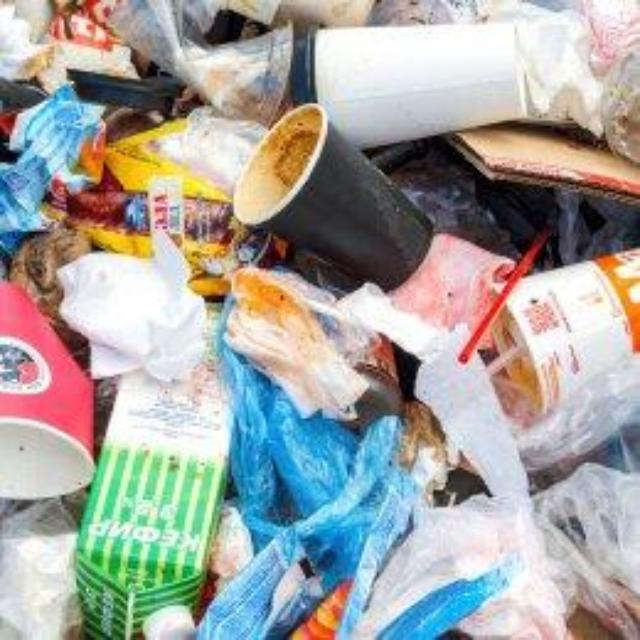Garbage: (2, 0, 633, 640)
Mask: (0, 85, 101, 234)
Plastic: (116, 3, 291, 194)
contaminated_waste: (63, 256, 640, 639)
